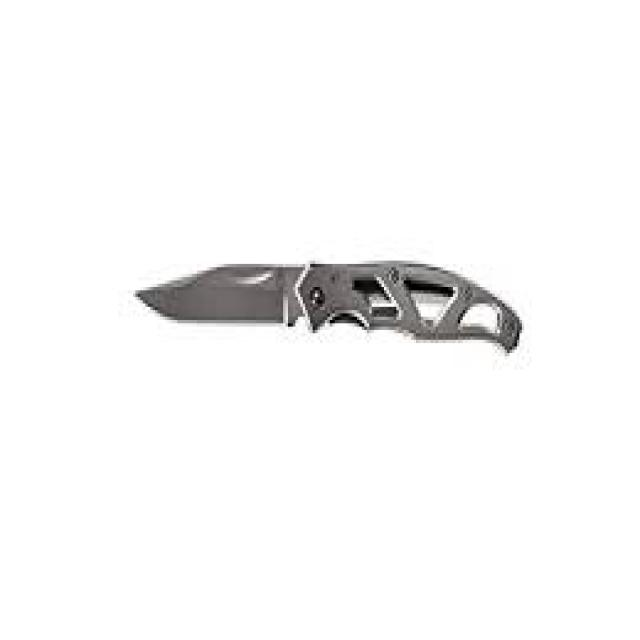knives: (128, 251, 524, 363)
